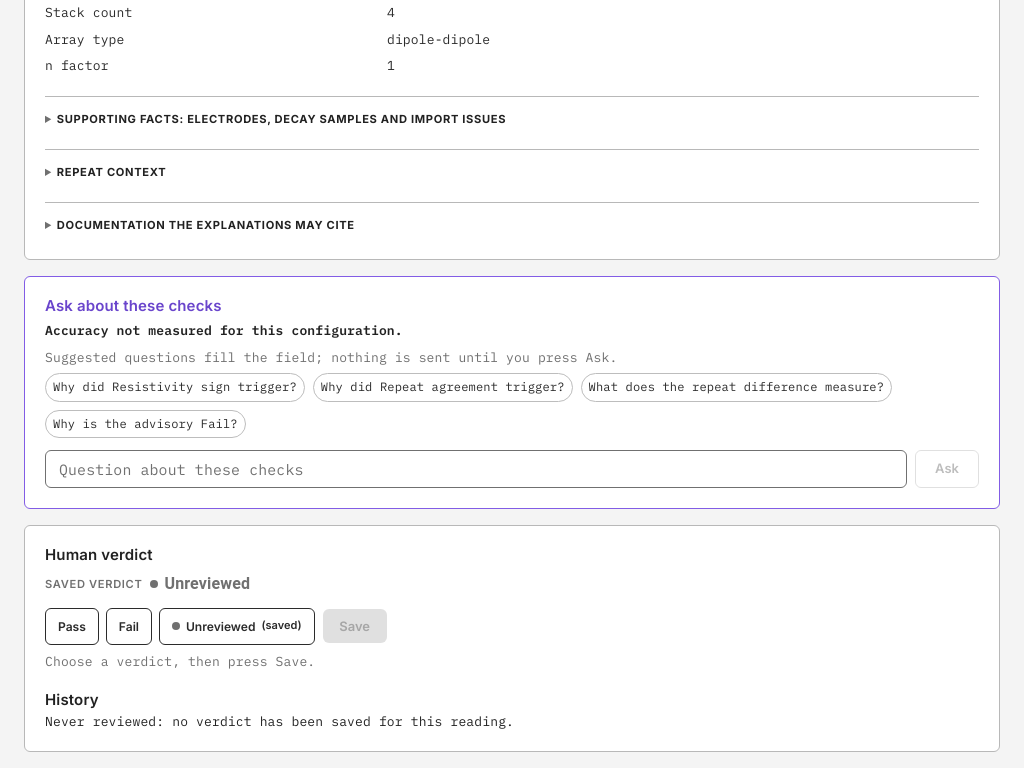
Test: asking › fills the field from a suggestion and sends nothing until Ask
The width and height of the screenshot is (1024, 768).
(page scrolled)
Click the button "What does the repeat difference measure?". click: [736, 388]
box: x1=581 y1=374 x2=892 y2=402
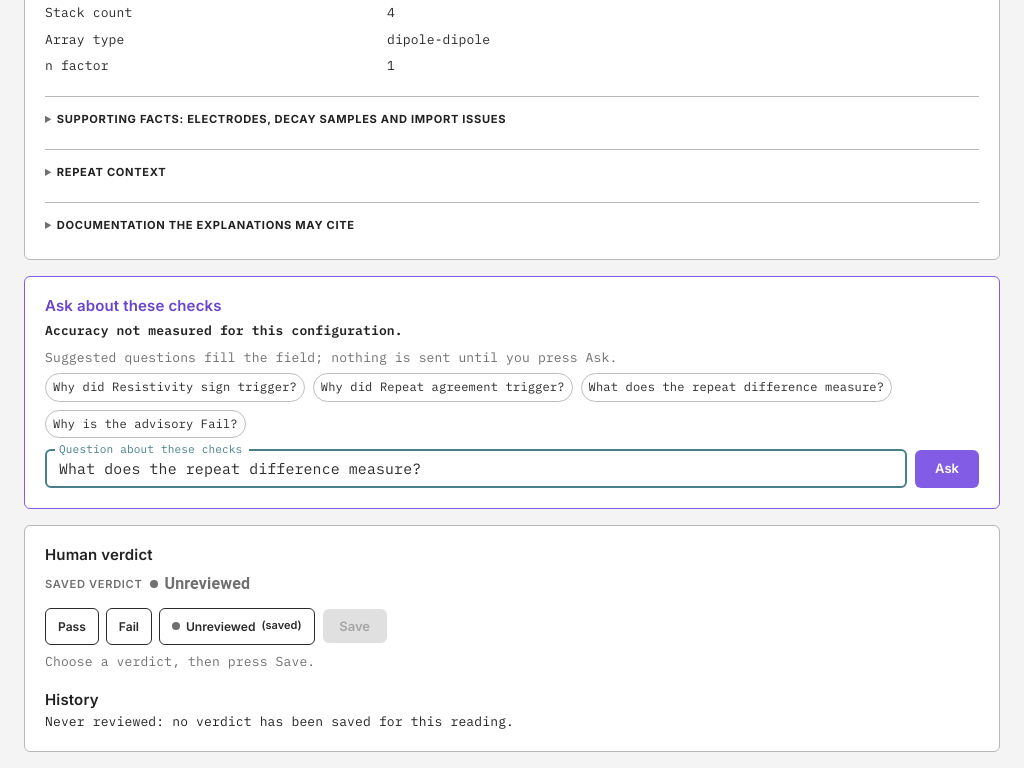
Expected: the field labelled "Question about these checks" holds "What does the repeat difference measure?", x1=45 y1=450 x2=907 y2=488
